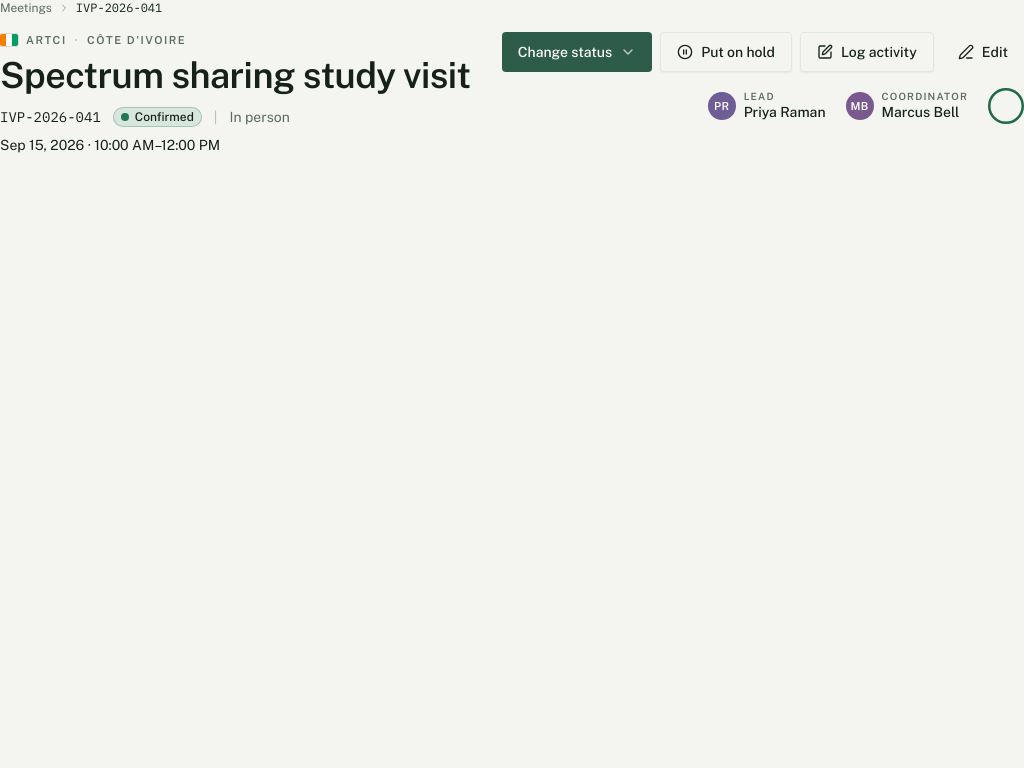
Test: RecordHeader › opens the transition dialog from Change status
Click the button "Change status" at {"x": 577, "y": 52}, box [502, 32, 652, 72]
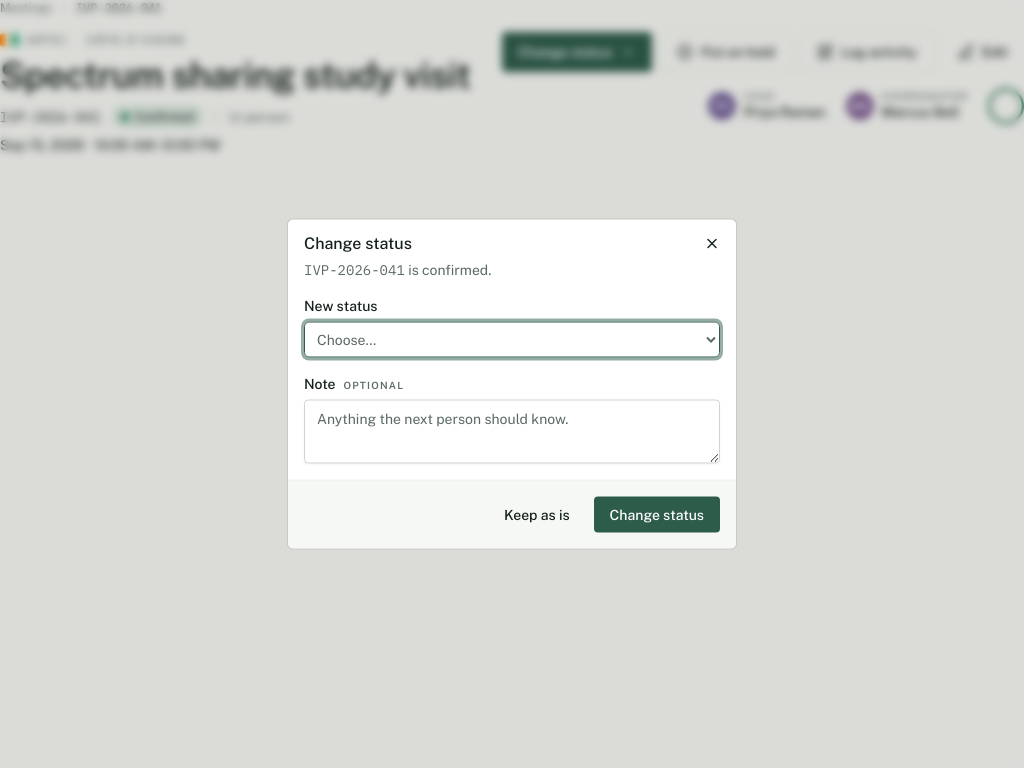
Result: the dialog is shown at [288, 220, 736, 548]
Result: the dropdown labelled "New status" is shown at [304, 322, 720, 358]
